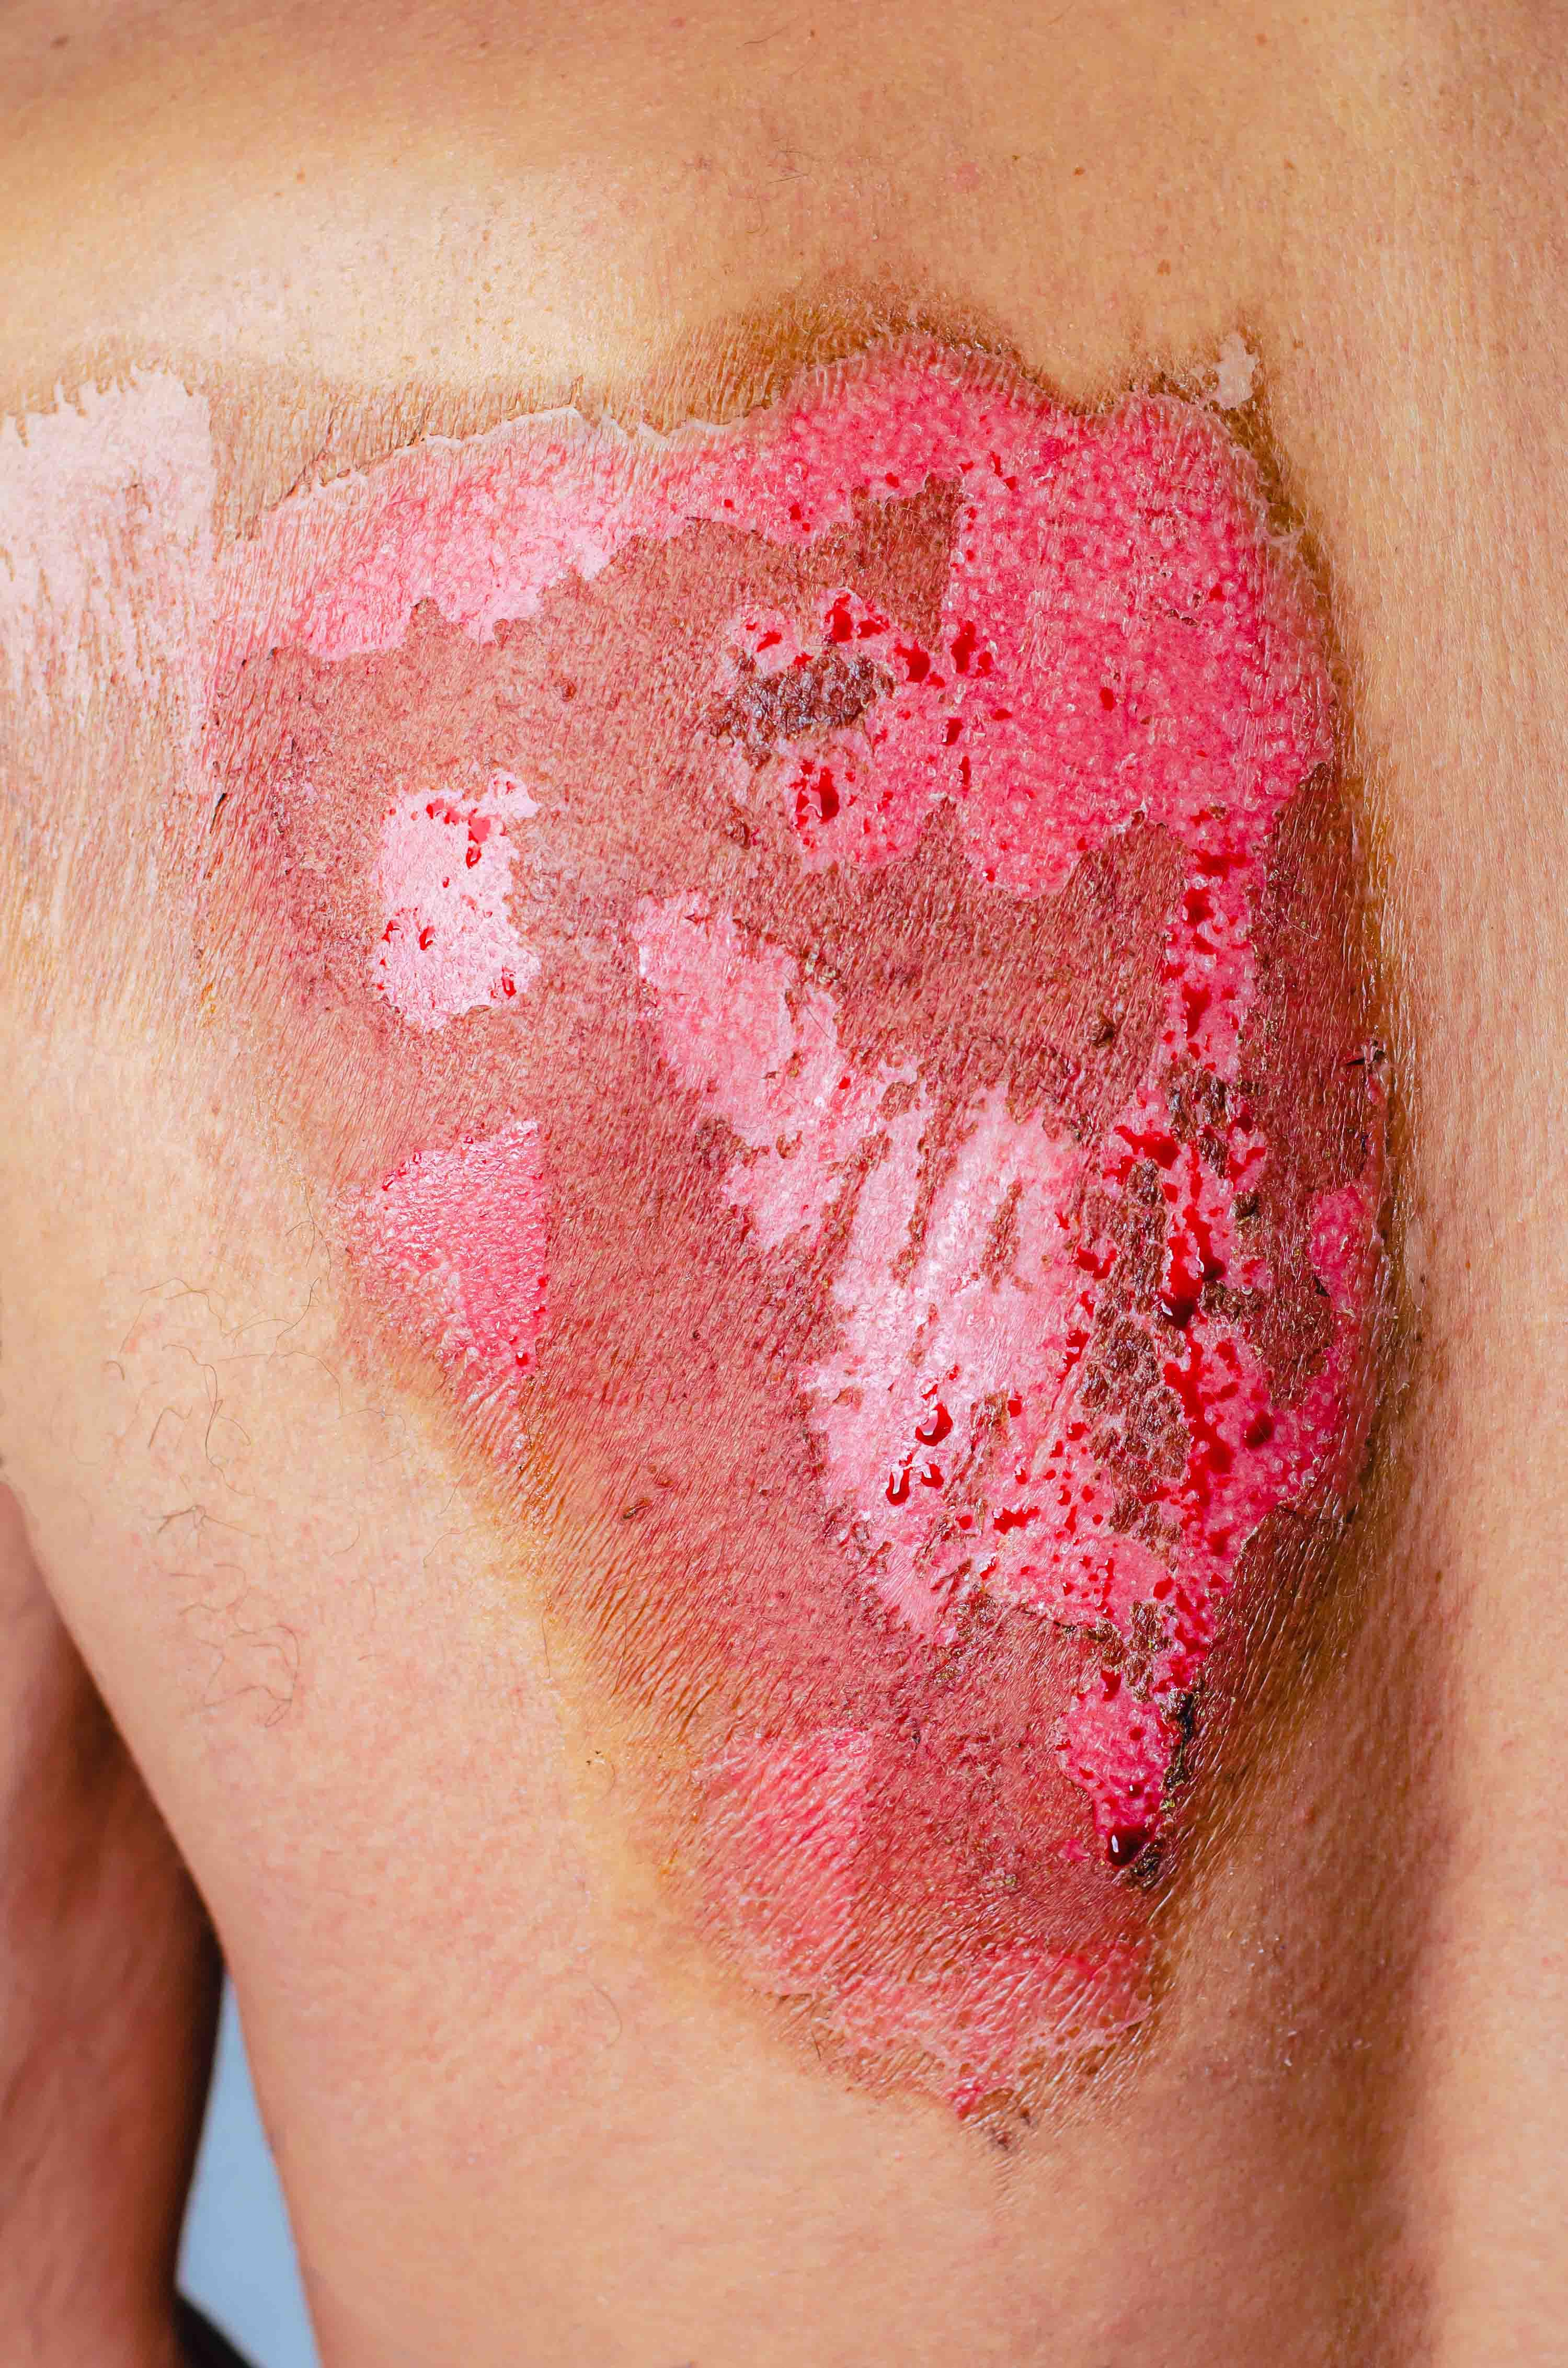burned-skin: (147, 320, 1556, 2237)
